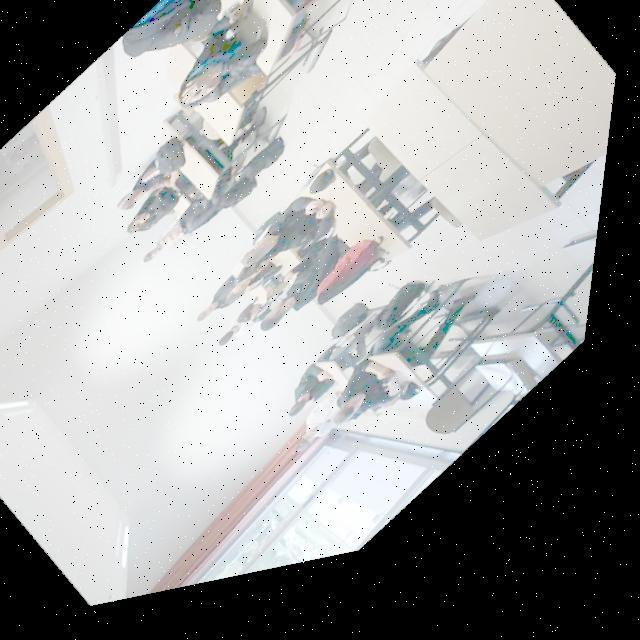phone_use: (231, 196, 347, 327), (178, 0, 265, 104), (334, 358, 417, 420), (225, 259, 290, 322), (288, 360, 345, 428), (127, 186, 177, 230)
